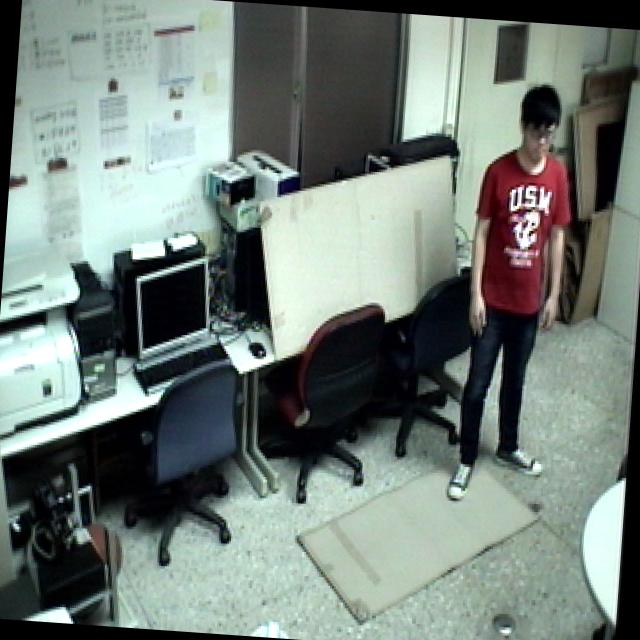stand: (446, 72, 576, 515)
